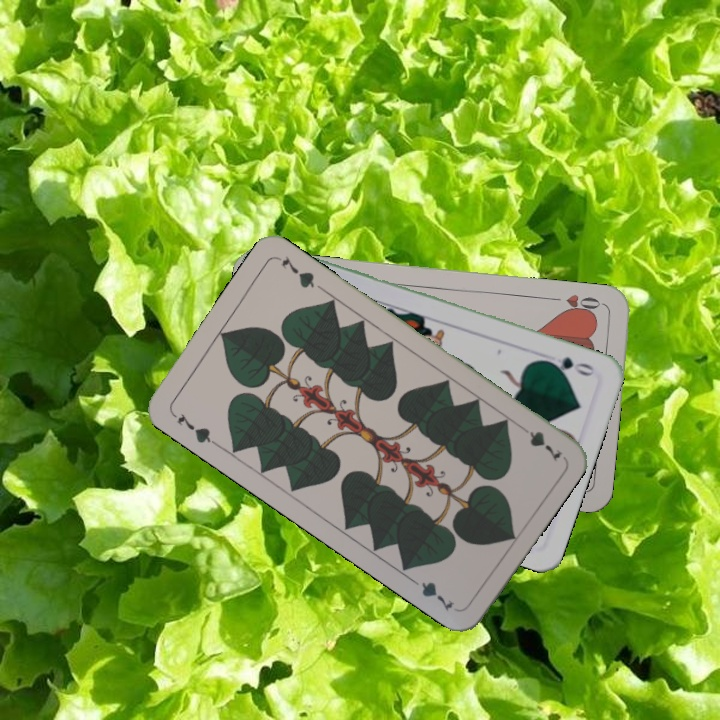G7: (513, 419, 565, 464), (168, 408, 220, 448)
GO: (540, 353, 597, 379)
HO: (546, 290, 605, 318)
